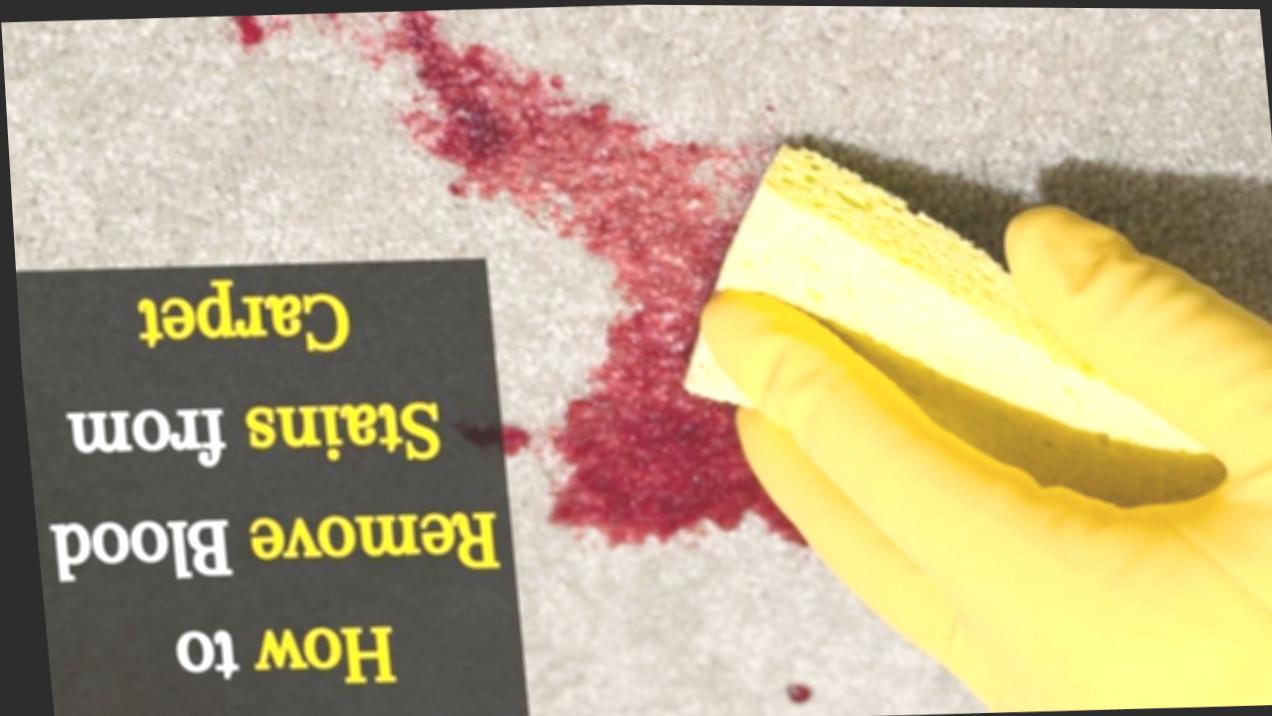Fire: (377, 10, 802, 548), (228, 16, 289, 55), (497, 424, 526, 457)
